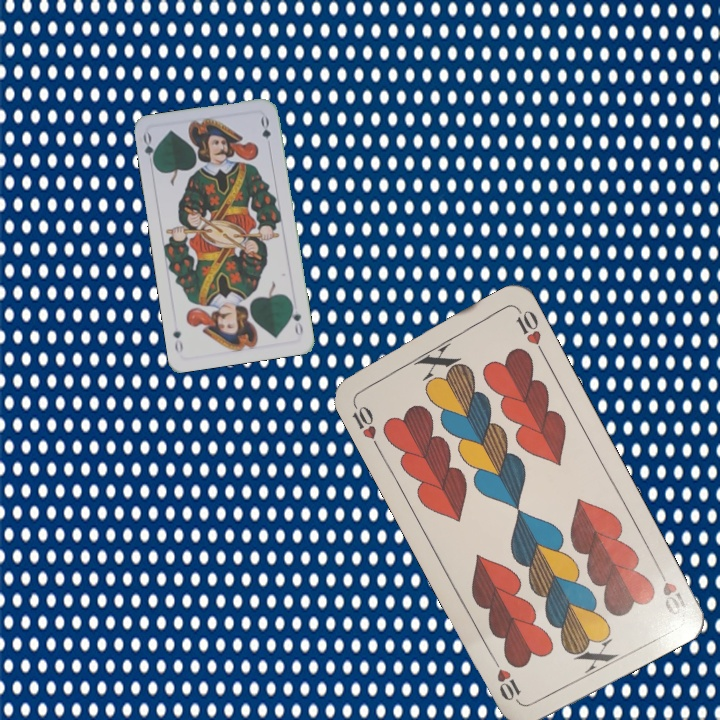GO: (139, 129, 159, 170), (286, 299, 305, 338)
H10: (652, 561, 691, 619), (347, 395, 382, 451)
